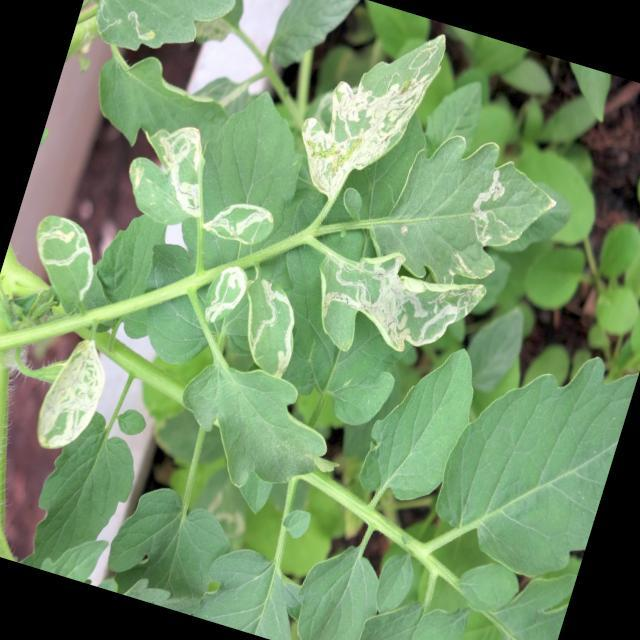Tomato healthy leaf: (420, 326, 639, 596), (160, 346, 344, 512), (352, 328, 490, 518), (19, 403, 150, 588), (195, 533, 316, 640), (284, 529, 396, 640), (349, 583, 472, 640)
Tomato target spot leaf: (351, 114, 568, 308), (280, 0, 448, 229), (297, 228, 493, 388), (114, 109, 298, 273), (187, 244, 333, 384), (10, 194, 121, 325), (93, 0, 268, 67), (30, 332, 116, 458)
